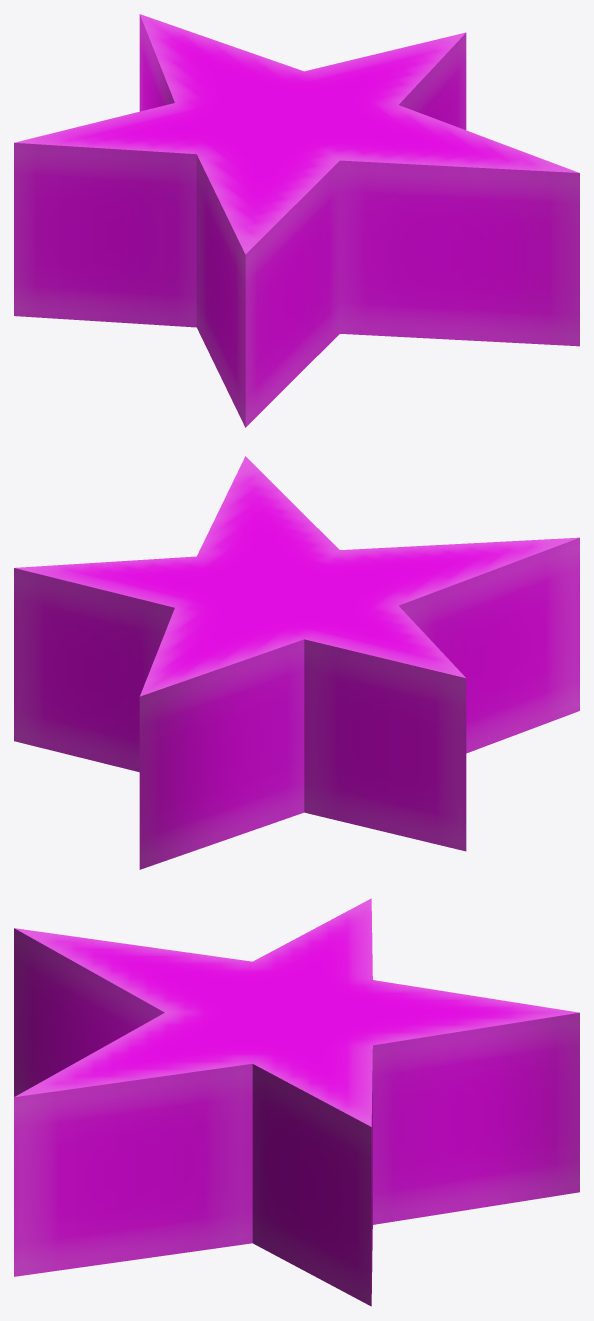
The model's file is jsf_ChocolateDecoration_04.fbx.
3 views of the same model, one above another, from view 1: azimuth 30°, elevation 25°; view 2: azimuth 150°, elevation 25°; view 3: azimuth 270°, elevation 25° (orthographic). The views are drawn at different scales.
Visible parts, largest first — view 1: jsf_ChocolateDecoration_04; view 2: jsf_ChocolateDecoration_04; view 3: jsf_ChocolateDecoration_04.
Part boxes in pixels (left/top/right/bottom): jsf_ChocolateDecoration_04: left=14, top=14, right=579, bottom=427; jsf_ChocolateDecoration_04: left=14, top=456, right=579, bottom=869; jsf_ChocolateDecoration_04: left=14, top=898, right=579, bottom=1306.
Size of the model in its own units: 4.51 by 1.65 by 4.71.
